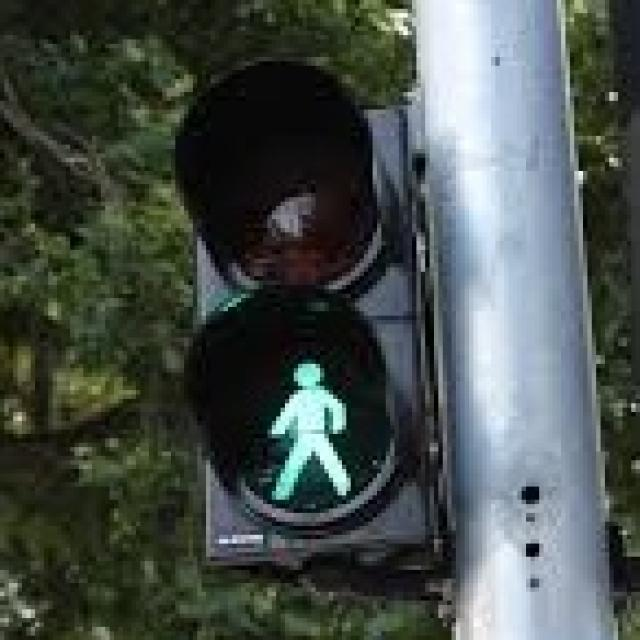green_light: (241, 337, 364, 513)
